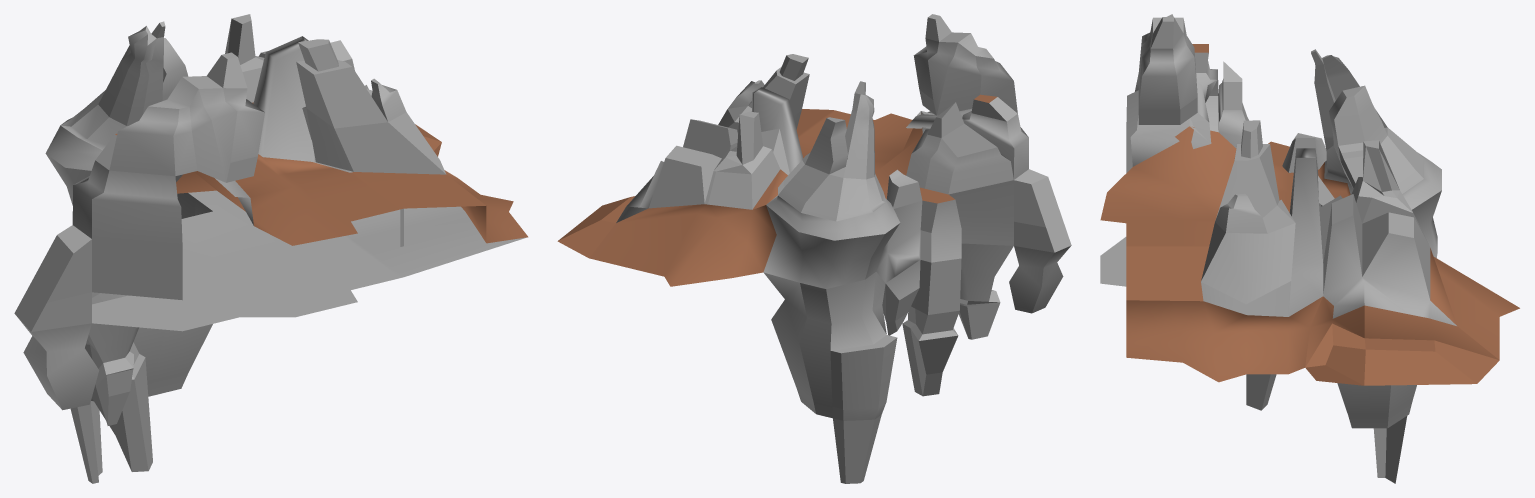
File: Aqua_RockC.fbx
The picture shows the model from 3 angles, left to right: view 1: azimuth 30°, elevation 25°; view 2: azimuth 150°, elevation 25°; view 3: azimuth 270°, elevation 25°; orthographic projection. The views are drawn at different scales.
Parts seen in each view (by area): view 1: Rock1; view 2: Rock1; view 3: Rock1.
Part boxes in pixels (x1,y1,x2,y2): Rock1: (14, 14, 528, 483); Rock1: (557, 14, 1071, 483); Rock1: (1100, 14, 1519, 483).
Bounding box in the file's own units: 35.11 × 33.52 × 27.36.
